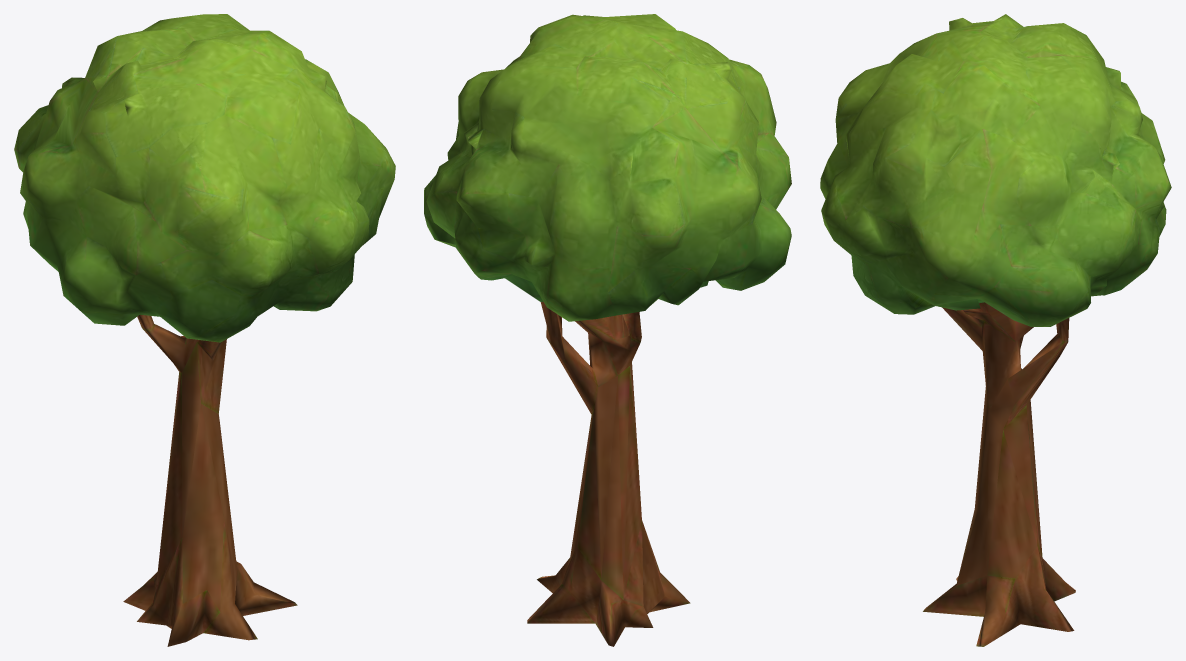
File: round.glb
3 views of the same model, side by side, from view 1: azimuth 30°, elevation 25°; view 2: azimuth 150°, elevation 25°; view 3: azimuth 270°, elevation 25° (orthographic). The views are drawn at different scales.
Size of the model in its own units: 1.11 by 1.9 by 1.05.
Materials: 1 (1 with a texture image).
